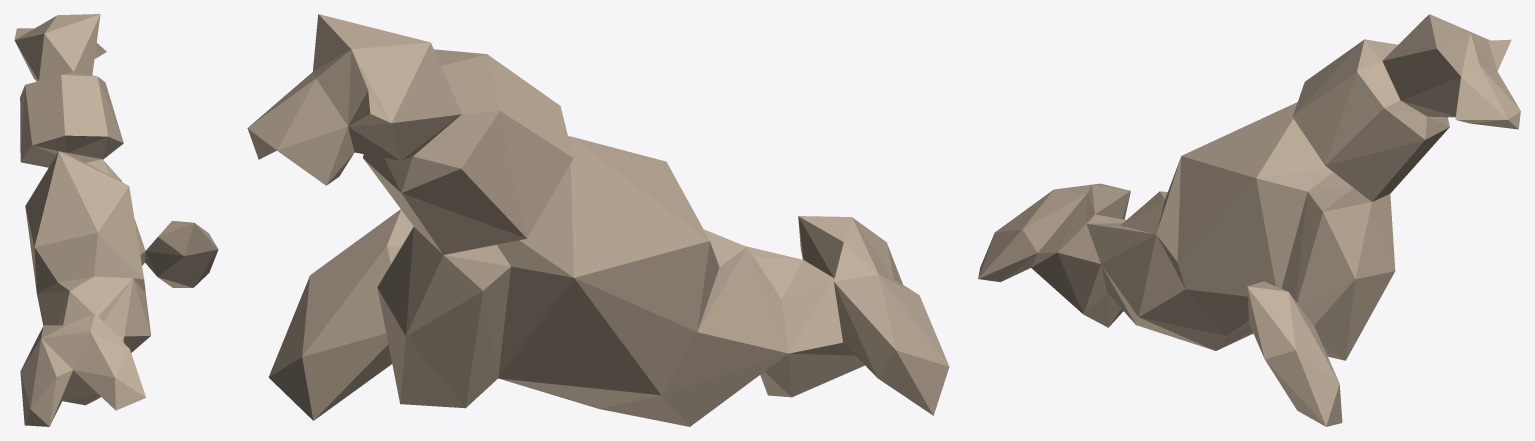
The picture shows the model from 3 angles, left to right: view 1: azimuth 30°, elevation 25°; view 2: azimuth 150°, elevation 25°; view 3: azimuth 270°, elevation 25°; orthographic projection. The views are drawn at different scales.
Parts seen in each view (by area): view 1: part0; view 2: part0; view 3: part0.
Part boxes in pixels (box(x1,y1,x2,y2)): part0: box(14, 14, 218, 426); part0: box(247, 14, 949, 426); part0: box(978, 14, 1520, 426).
Size of the model in its own units: 11.08 by 10.24 by 13.9.
